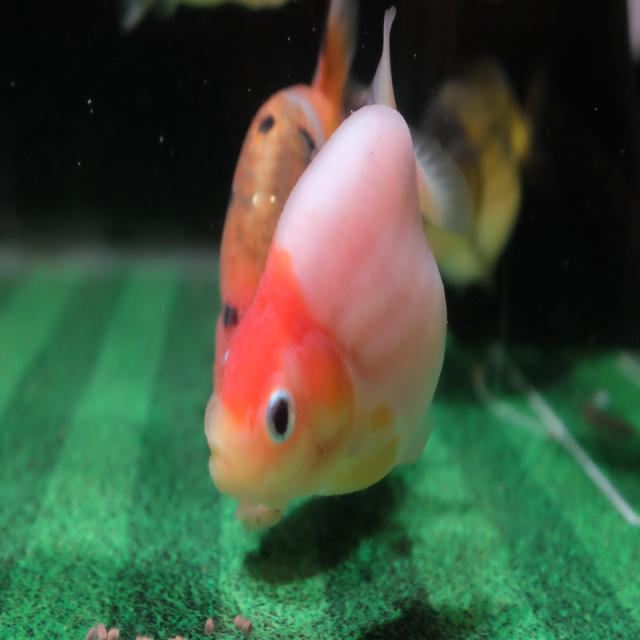Goldfish: (203, 10, 450, 514), (212, 0, 360, 390), (413, 41, 540, 290)
